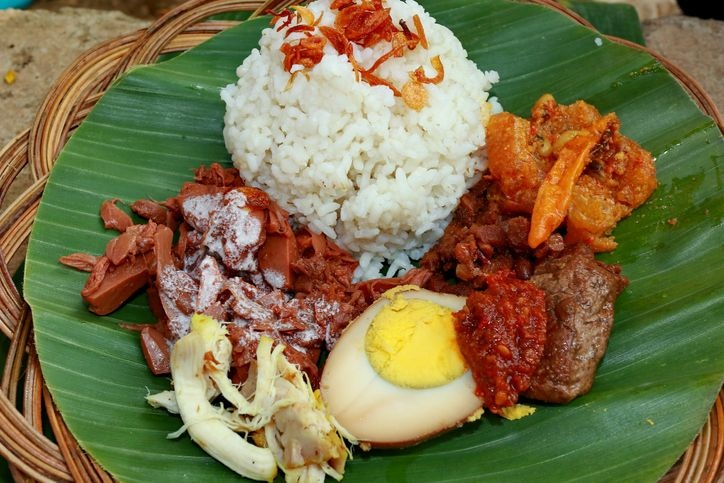gudeg: (83, 2, 656, 483)
